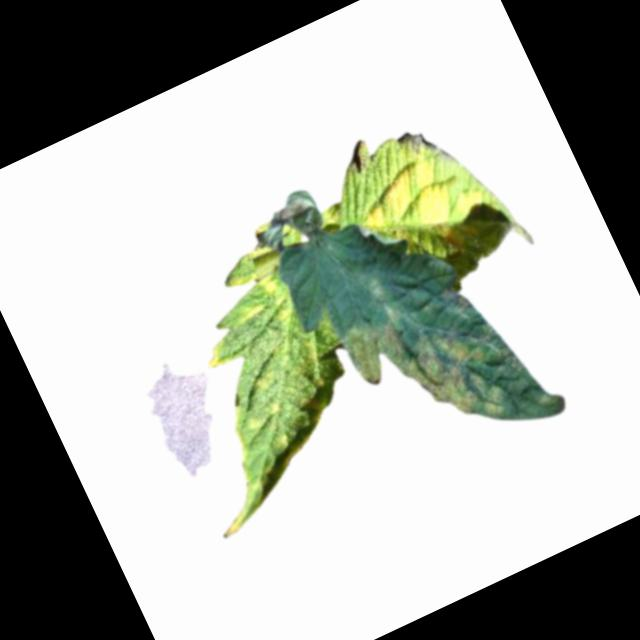Leaf_Mold: (110, 222, 380, 540), (337, 255, 569, 483), (349, 137, 514, 287)
